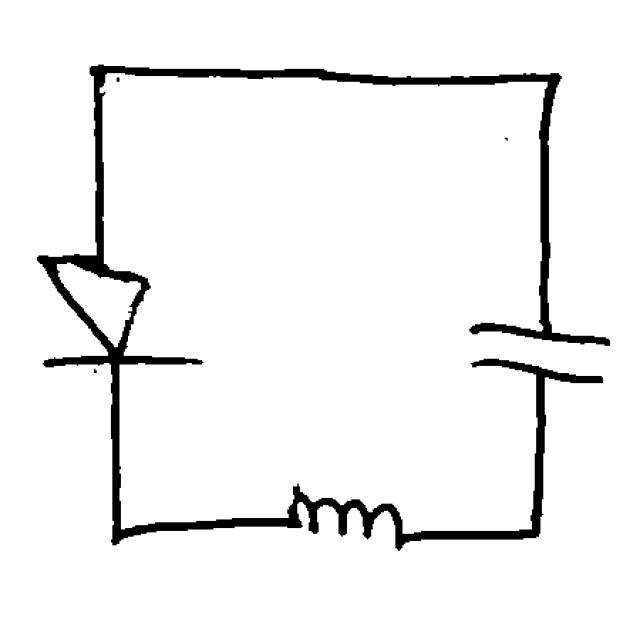capacitor: (458, 304, 629, 402)
diode: (24, 240, 212, 380)
inductor: (266, 470, 424, 569)
